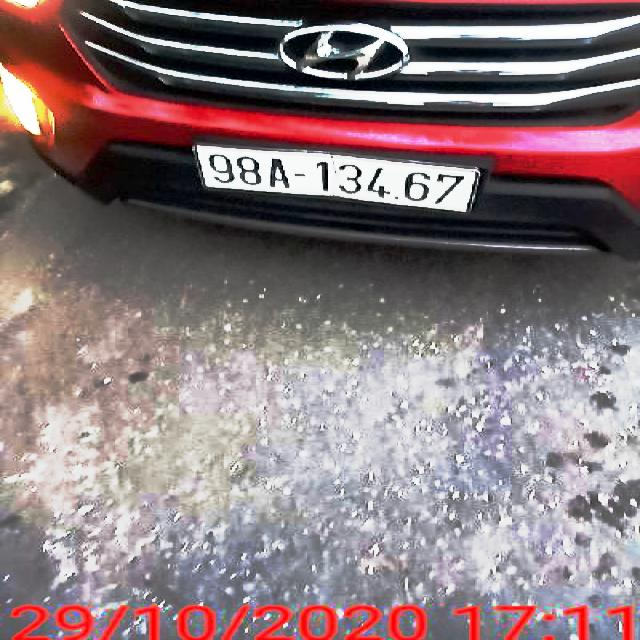license_plate: (198, 145, 479, 211)
